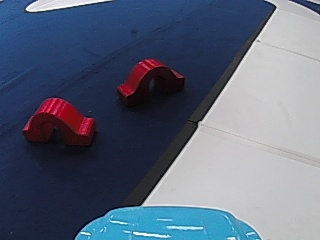bridge: (19, 93, 101, 147), (113, 53, 187, 106)
